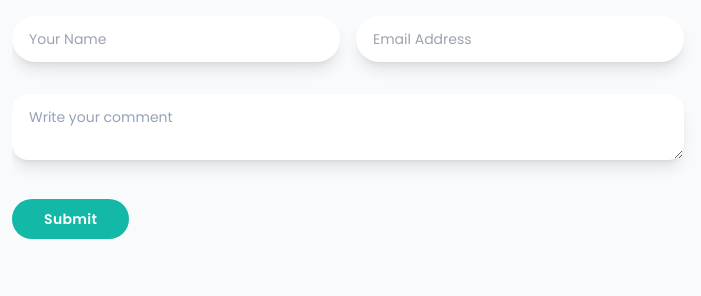
it: CommentForm › should show required errors when form is submitted with empty fields
The width and height of the screenshot is (701, 296).
Click the button "Submit" at point(71, 219), box [12,199,129,239]
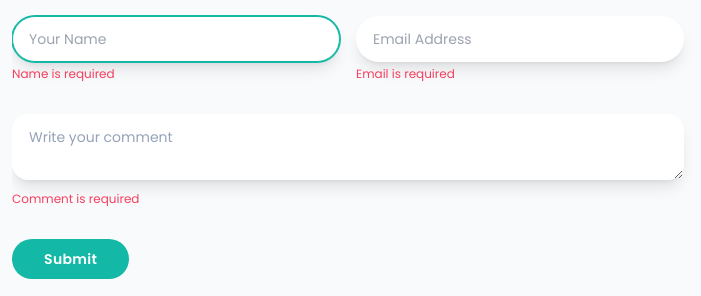
Check: the text "Name is required" is shown, box [12,65,115,82]
Check: the text "Email is required" is shown, box [356,65,455,82]
Check: the text "Comment is required" is shown, box [12,190,140,207]
